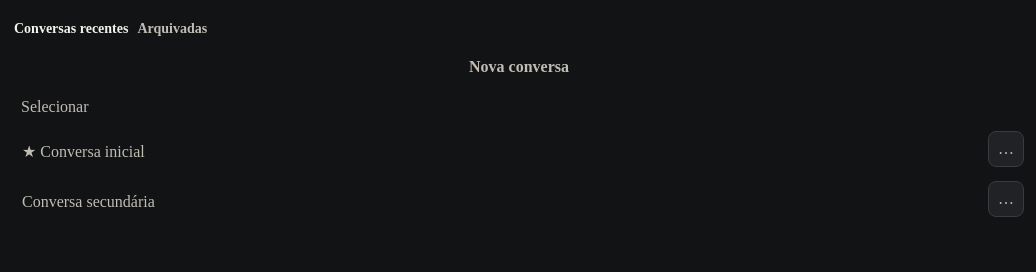
Scenario: ConversationList regressions › refreshes and reports when a batch action partially fails
What coordinates should you click on to do the following:
click the button with class "conversation-list-select-mode"
I would click on:
 (55, 107)
Its box is [12, 89, 98, 125].
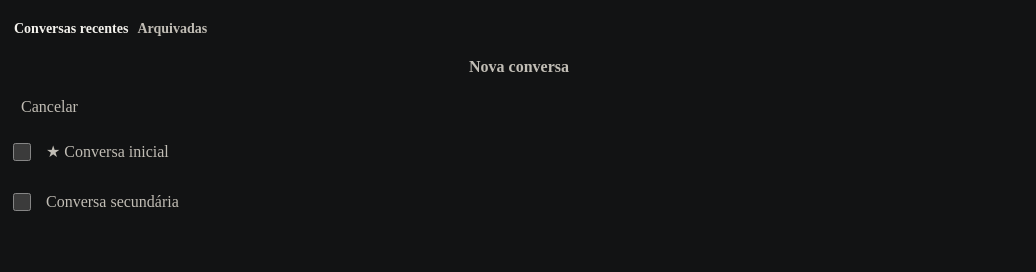
Now the number of checkboxes with class "conversation-list-checkbox" is 2
What coordinates should you click on to do the following:
click the 1st checkbox with class "conversation-list-checkbox"
I would click on:
 (22, 152)
Its box is [13, 143, 31, 161].
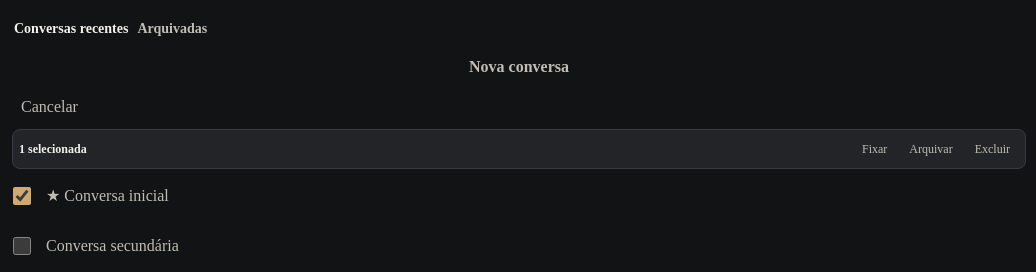
What coordinates should you click on to do the following:
click the 2nd checkbox with class "conversation-list-checkbox"
I would click on:
 (22, 246)
Its box is [13, 237, 31, 255].
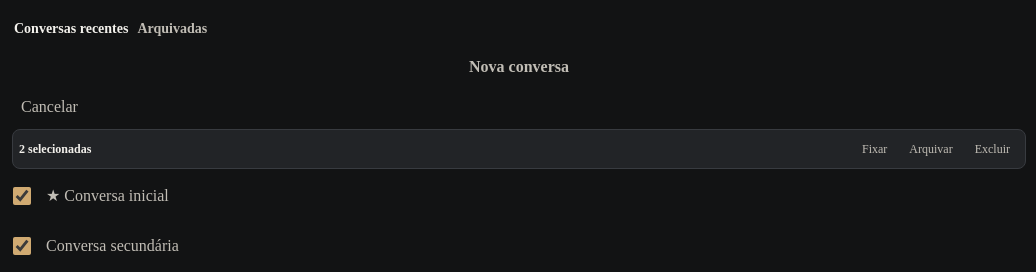
What coordinates should you click on to do the following:
click the button "Arquivar"
I would click on:
 (931, 149)
Its box is [900, 134, 962, 164].
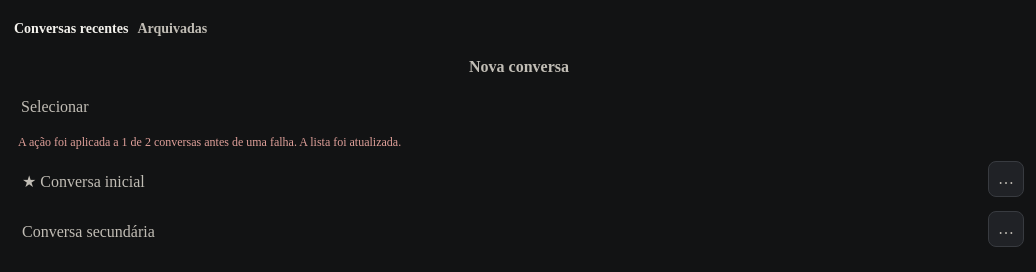
Now the message shows "1 de 2", box [18, 135, 401, 149]
